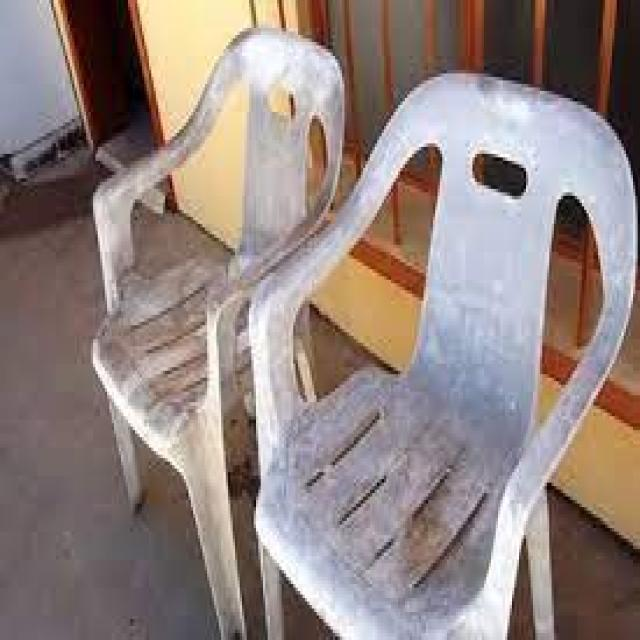chair: (242, 1, 640, 640), (55, 5, 366, 637)
